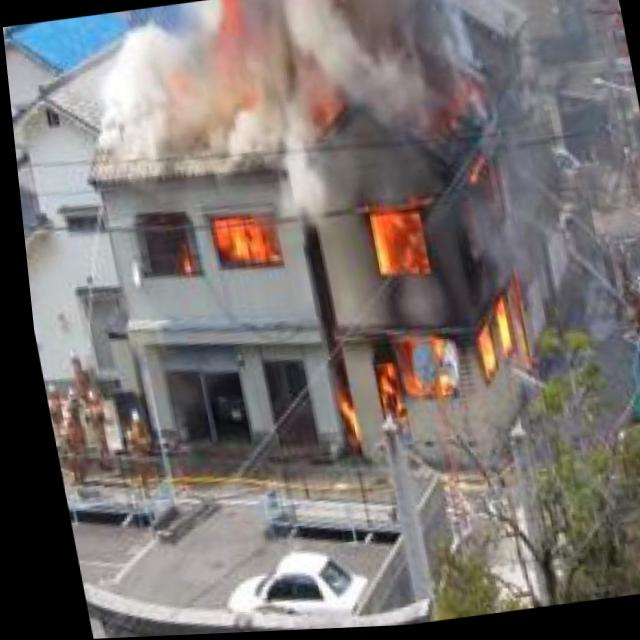Fire: (315, 178, 546, 463), (162, 17, 274, 132), (176, 202, 274, 284)
